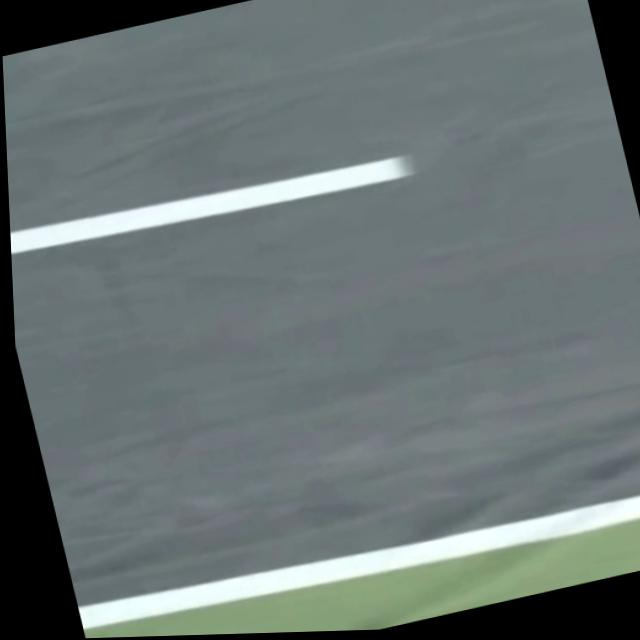center: (10, 156, 412, 254)
right: (77, 494, 640, 630)
